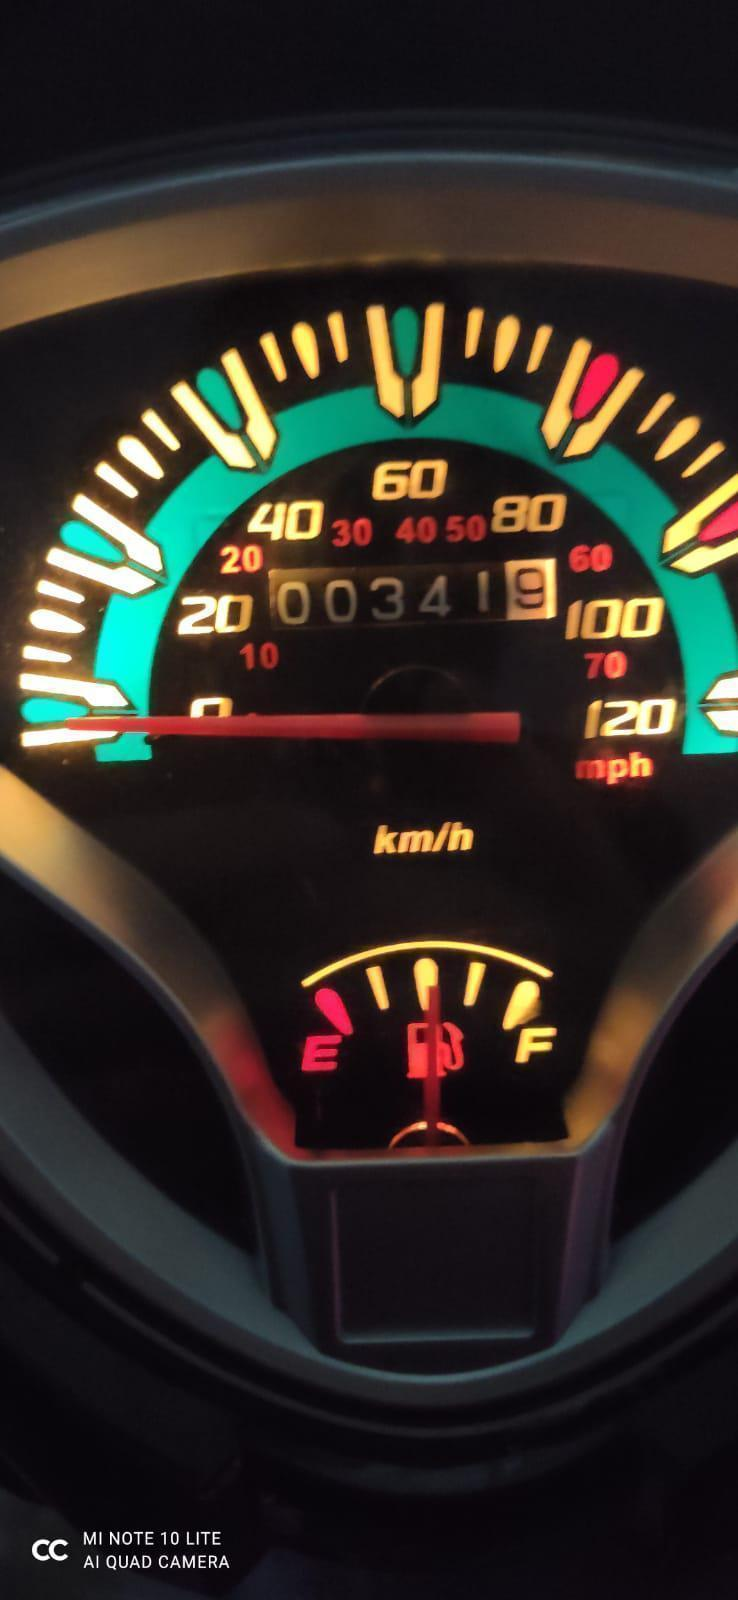0: (324, 574, 359, 624), (277, 576, 311, 627)
1: (473, 563, 497, 619)
3: (367, 573, 406, 624)
4: (419, 568, 455, 622)
9: (512, 564, 551, 615)
odometer: (269, 556, 558, 629)
